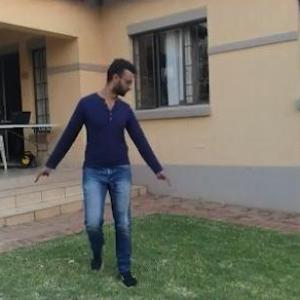land: (42, 64, 173, 286)
